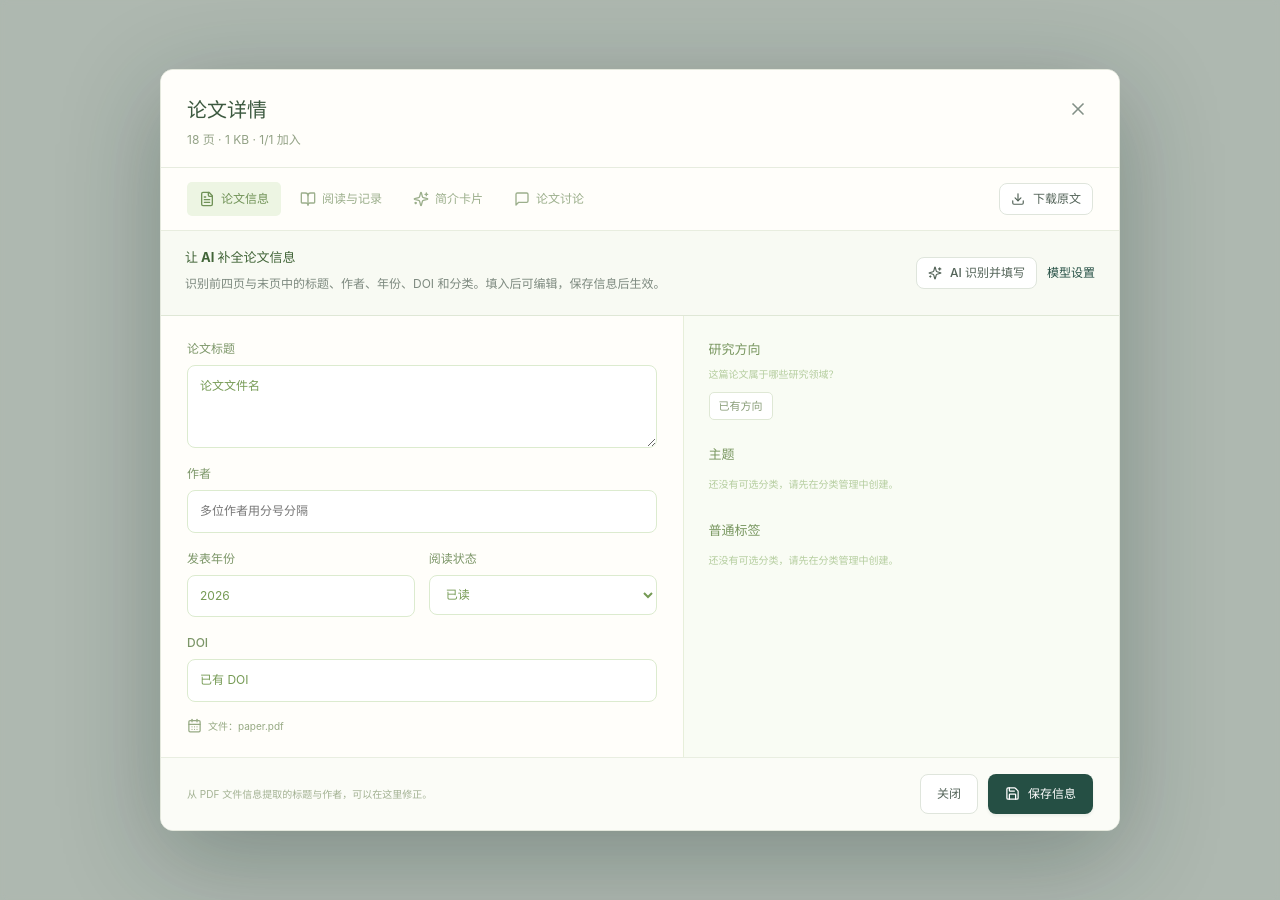
Test: AI 填写后关闭窗口需要处理未保存表单
Step 1. Click the button "AI 识别并填写" → (976, 273), box [916,257,1037,289]
(page scrolled)
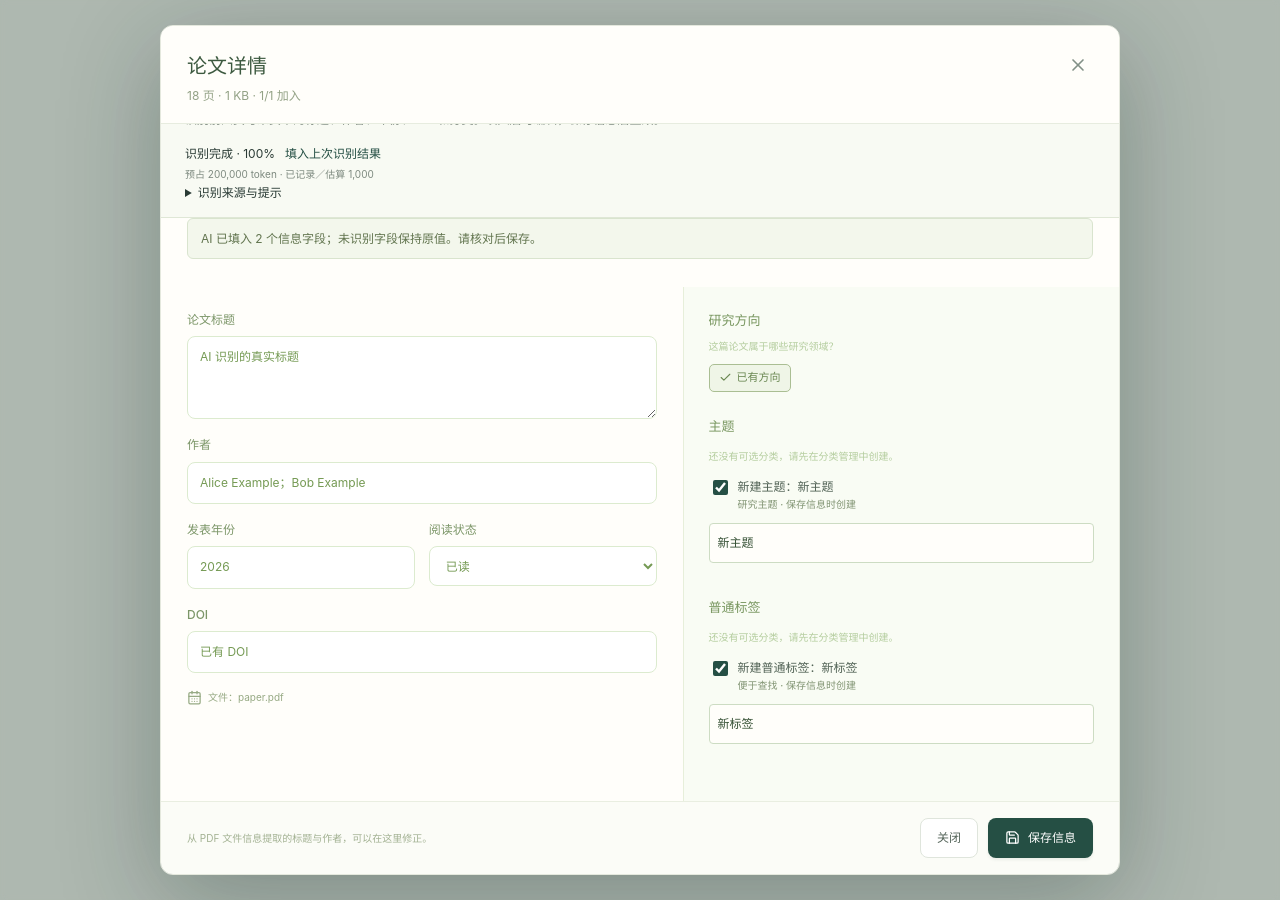
Check: the text box labelled "论文标题" holds "AI 识别的真实标题", box [187,336,656,420]
Step 2. Click the button "关闭" → (949, 838), box [920,818,978,858]
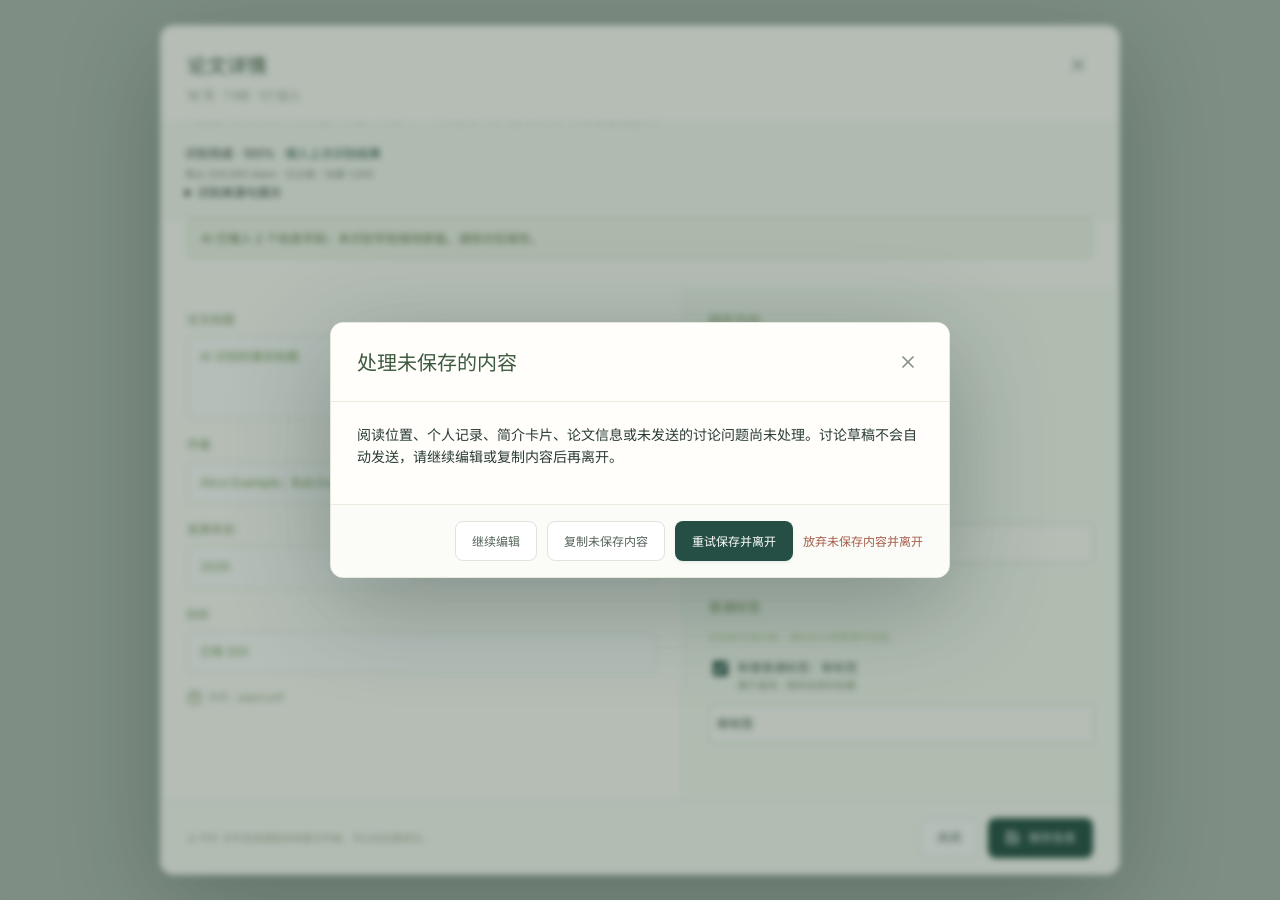
Check: the heading "处理未保存的内容" is shown, box [357,347,517,379]
